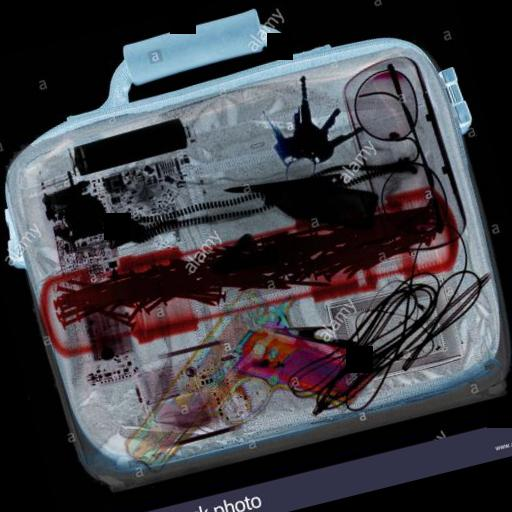Handgun: (92, 259, 390, 478)
